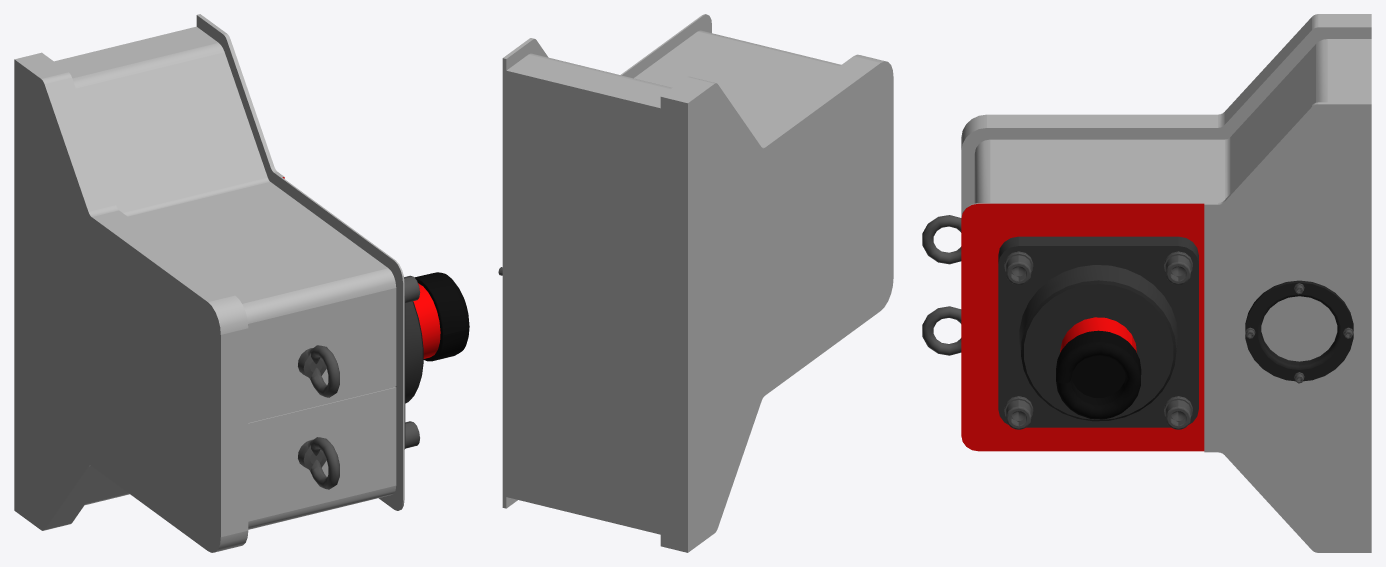
The model's file is Idler_Top_P2.dae.
3 renders of one model, left to right at view 1: azimuth 30°, elevation 25°; view 2: azimuth 150°, elevation 25°; view 3: azimuth 270°, elevation 25°, orthographic.
Visible parts, largest first — view 1: Node_0000018E3E9D74E0 (×5); view 2: Node_0000018E3E9D74E0; view 3: Node_0000018E3E9D74E0 (×6).
Boxes of the visible parts, bbox=[...] form: Node_0000018E3E9D74E0 (×5): bbox=[14, 14, 469, 552]; Node_0000018E3E9D74E0: bbox=[502, 14, 893, 552]; Node_0000018E3E9D74E0 (×6): bbox=[922, 14, 1371, 552].
Bounding box in the file's own units: 0.402 × 0.58 × 0.5267.
